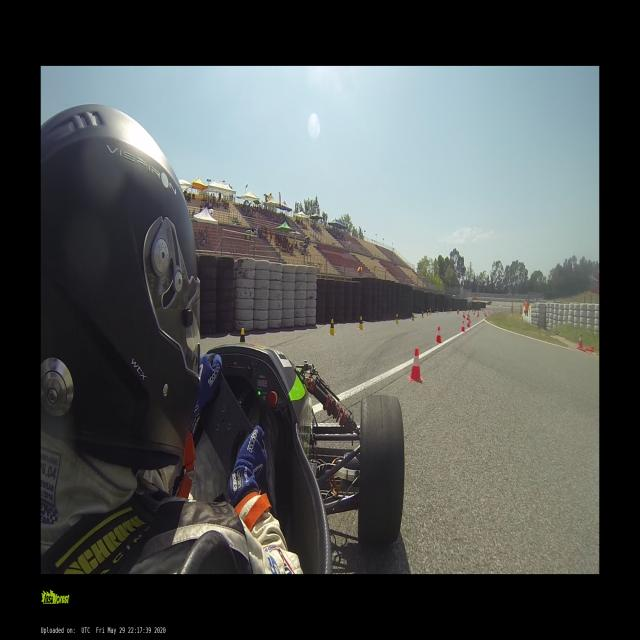orange_cone: (408, 348, 424, 382), (435, 327, 442, 342), (578, 334, 583, 348), (461, 320, 465, 332), (468, 315, 471, 323), (468, 318, 470, 327), (484, 313, 486, 316), (464, 313, 465, 318), (468, 314, 469, 319), (463, 312, 464, 316), (477, 313, 478, 317), (486, 313, 486, 317), (479, 312, 479, 316)
yellow_cone: (328, 318, 336, 336), (240, 328, 246, 344), (357, 316, 364, 329), (395, 313, 399, 324), (411, 312, 414, 321), (422, 311, 424, 318), (427, 309, 428, 316), (431, 308, 432, 314), (437, 308, 438, 313), (443, 307, 444, 312), (450, 309, 451, 313), (451, 308, 452, 312), (457, 310, 458, 314), (458, 308, 459, 312), (430, 309, 430, 314), (448, 310, 448, 314), (459, 310, 459, 314)
